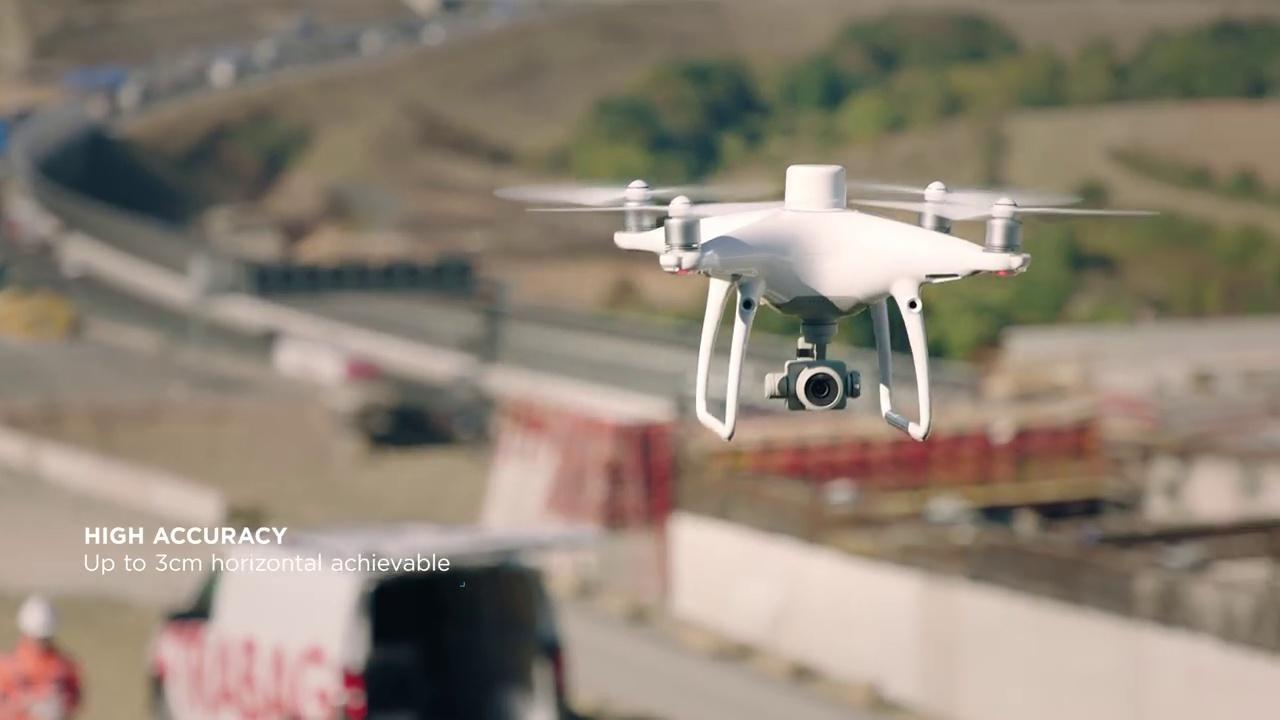drone: (490, 158, 1164, 448)
